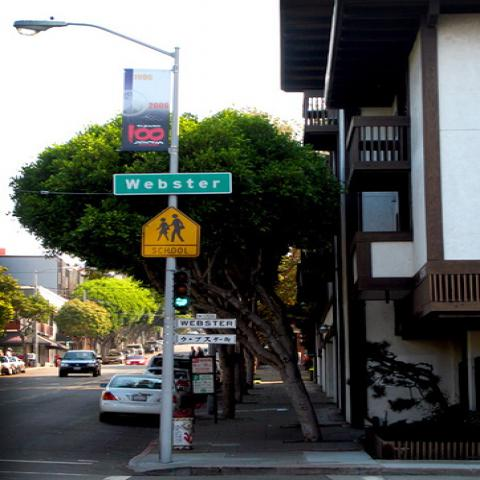car: (94, 376, 165, 420), (141, 367, 191, 408), (58, 351, 102, 379), (102, 352, 126, 364), (125, 354, 148, 364)
